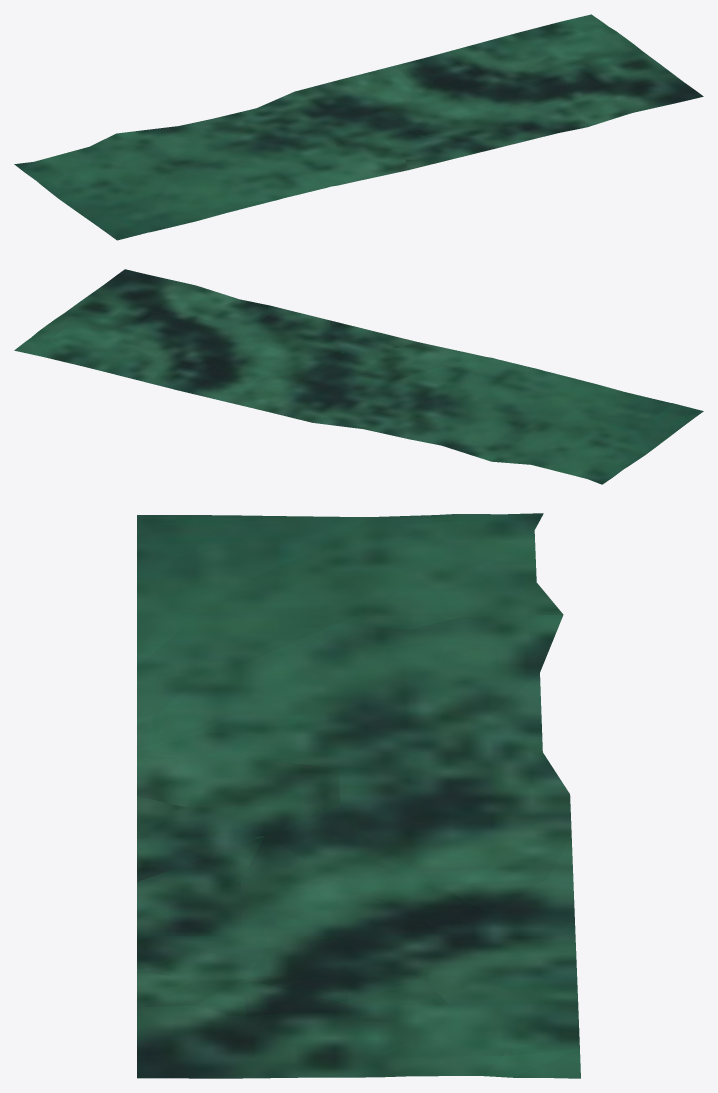
3 views of the same model, one above another, from view 1: azimuth 30°, elevation 25°; view 2: azimuth 150°, elevation 25°; view 3: azimuth 270°, elevation 25° (orthographic). The views are drawn at different scales.
Bounding box in the file's own units: 52.22 × 0.4747 × 17.35.
Materials: 1 (1 with a texture image).
